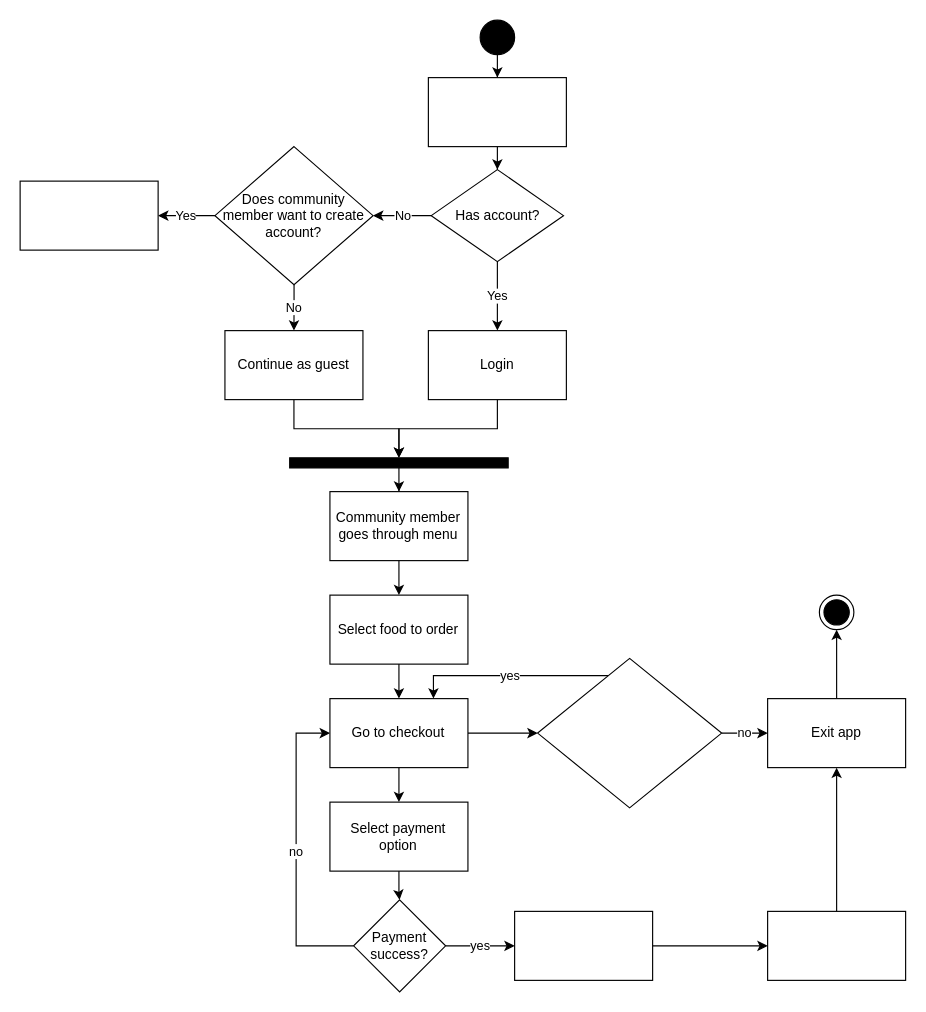
Some shapes in this 926 by 1012 pixel diagram are drawn without their labels. Each missing label, with the centre of its shape:
Community member opens app: point 496,111
Does Community member still want to pay?: point 629,732
Email receipt received: point 836,945
Order goes through: point 583,945
Signup: point 88,215
